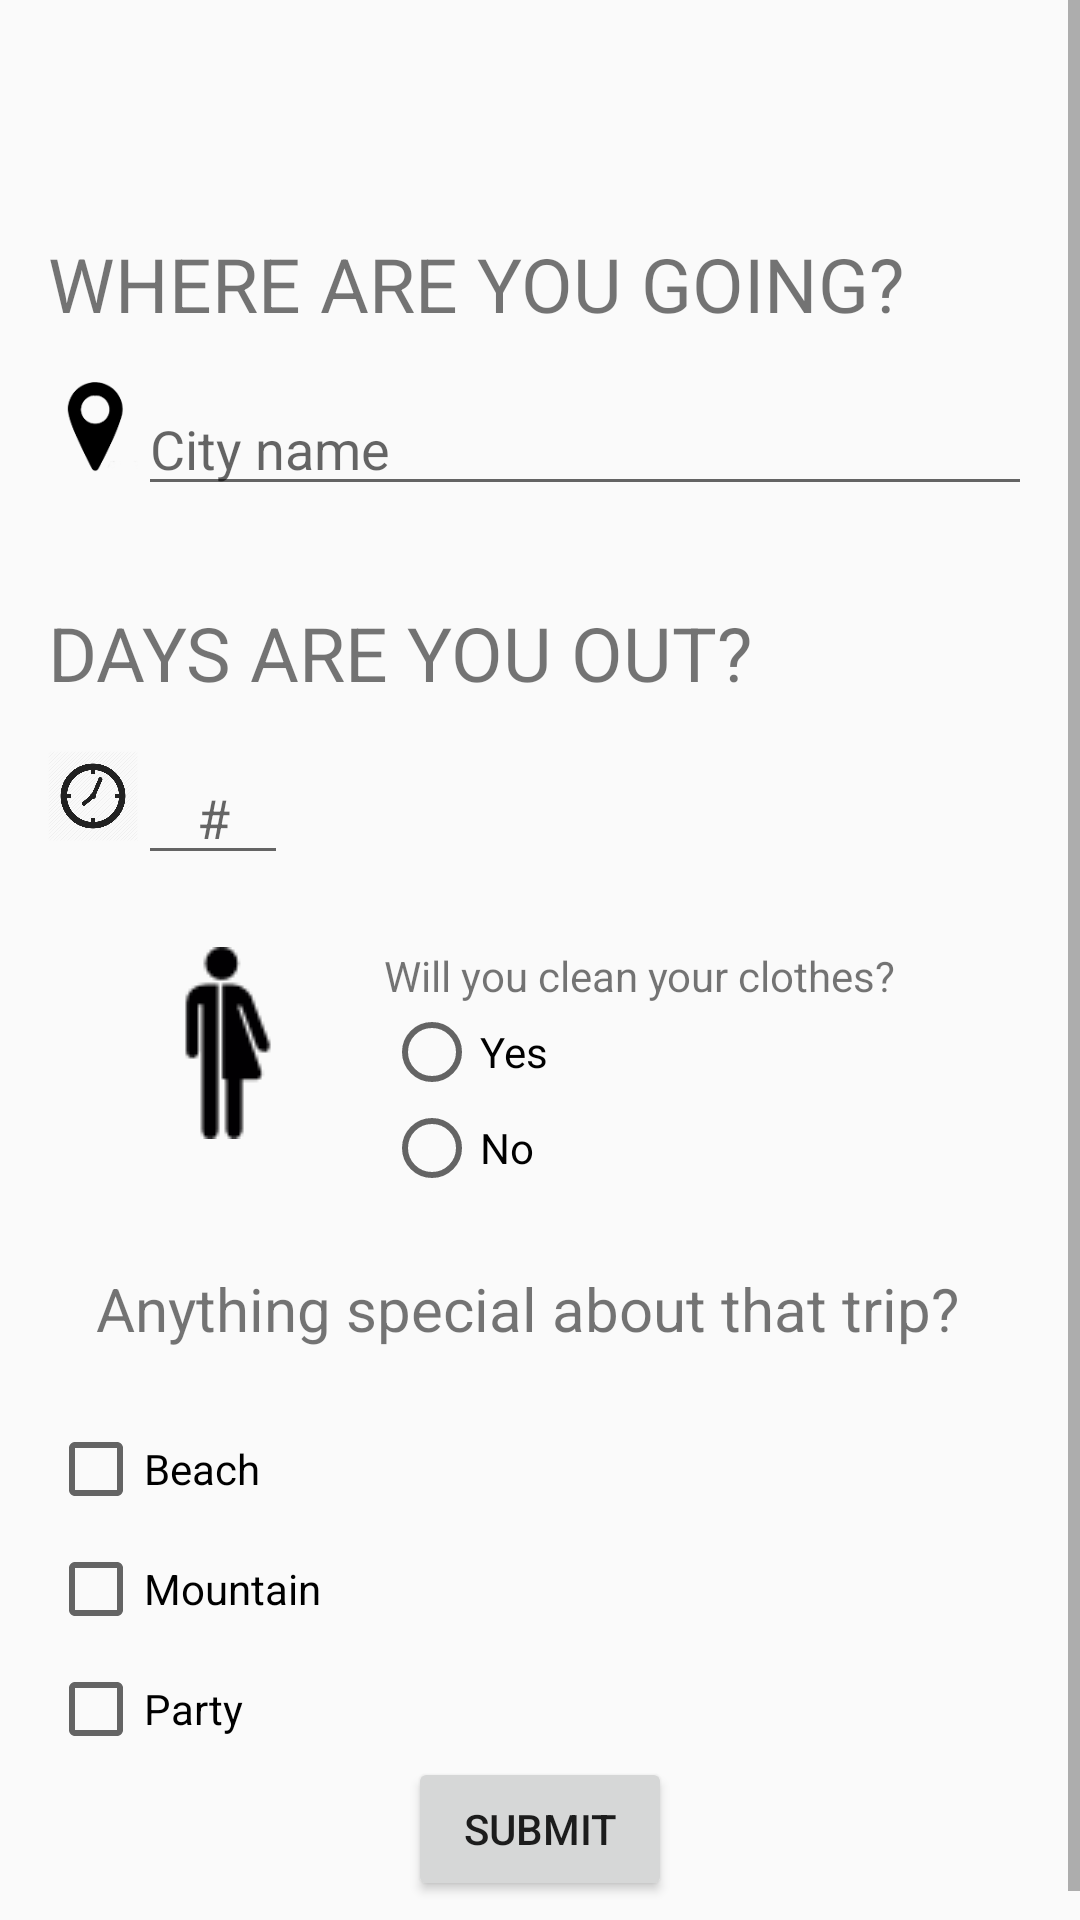

Screen size 1080w x 1920h. Icon name, then its box in pixels as (x1, y1, x2, y2):
clock: (60, 763, 126, 829)
ubication: (67, 382, 123, 471)
unisex: (185, 947, 271, 1139)
